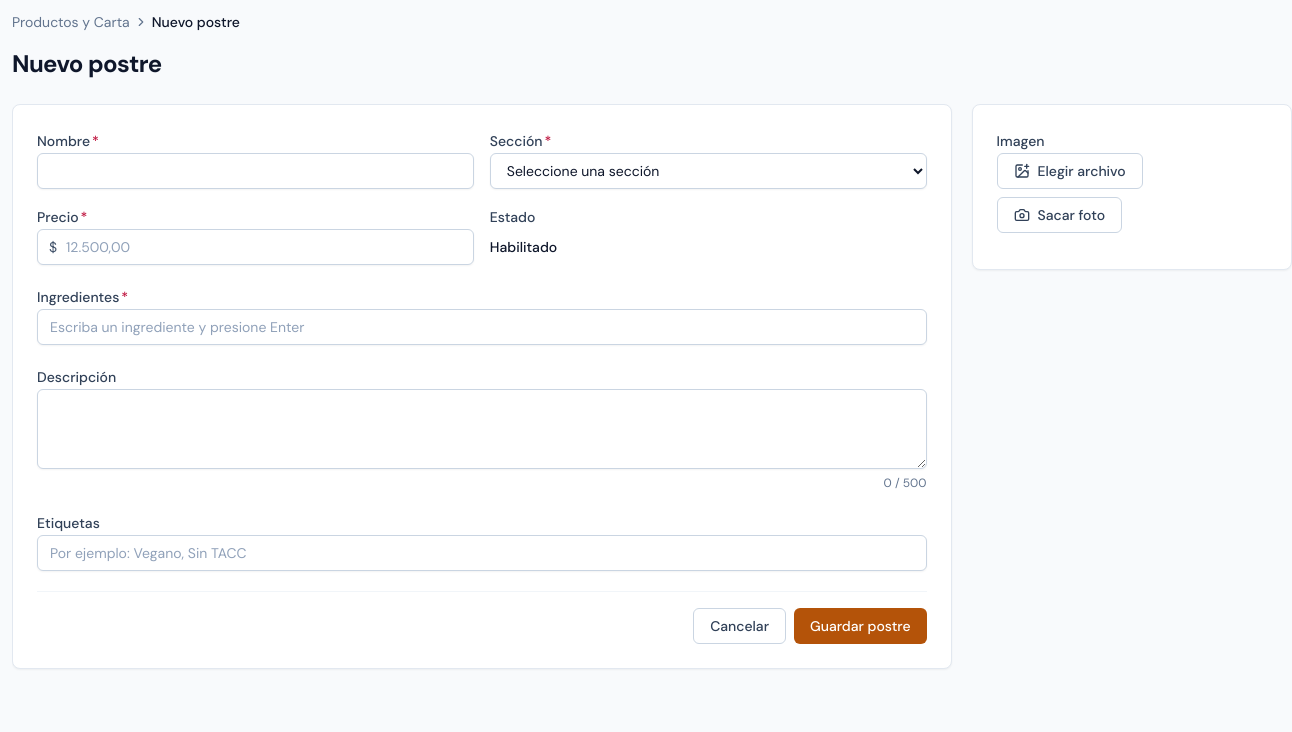
Scenario: ProductoNuevoPage POSTRE: validaciones › con campos vacíos no envía y marca cada campo obligatorio (CA 2)
Expected: the field labelled "Nombre*" is shown, [37,153,474,189]
Click the button "Guardar postre".
click(860, 626)  # box [794,608,926,644]
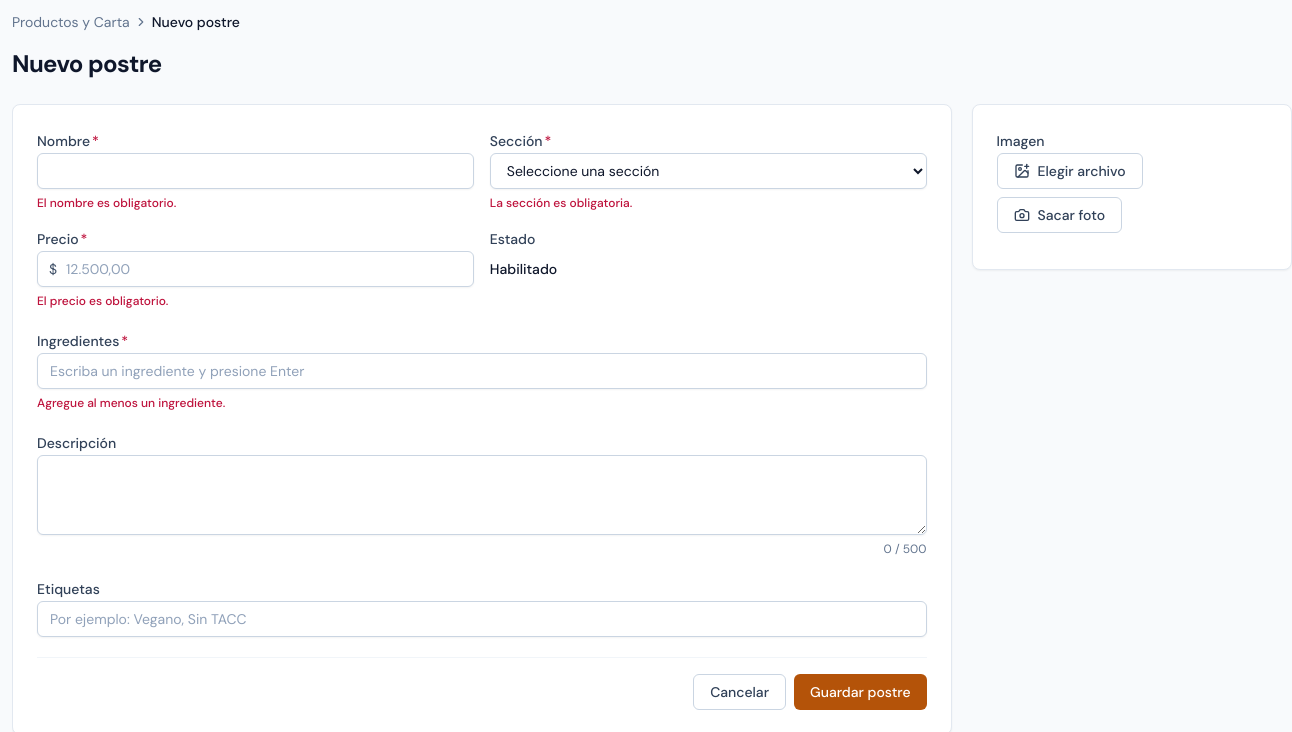
Expected: the text "El nombre es obligatorio." is shown, [37,195,176,211]
Expected: the text "La sección es obligatoria." is shown, [490,195,632,211]
Expected: the text "El precio es obligatorio." is shown, [37,293,168,309]
